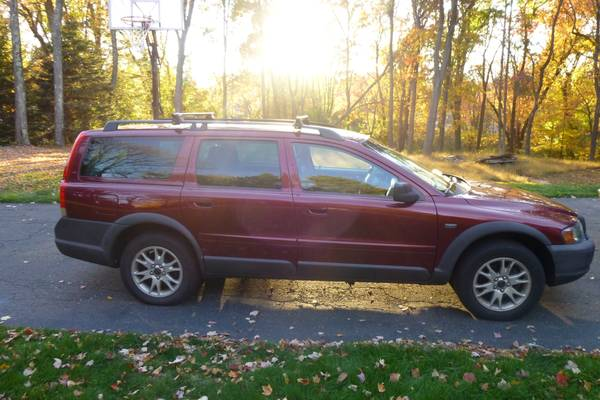volvo: (34, 99, 600, 329)
